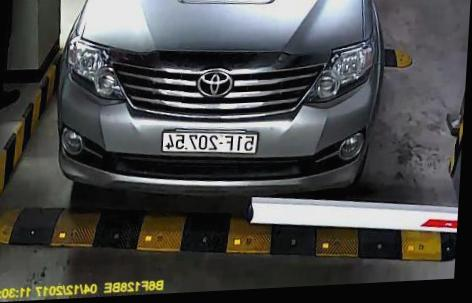License_Plate: (161, 127, 257, 154)
